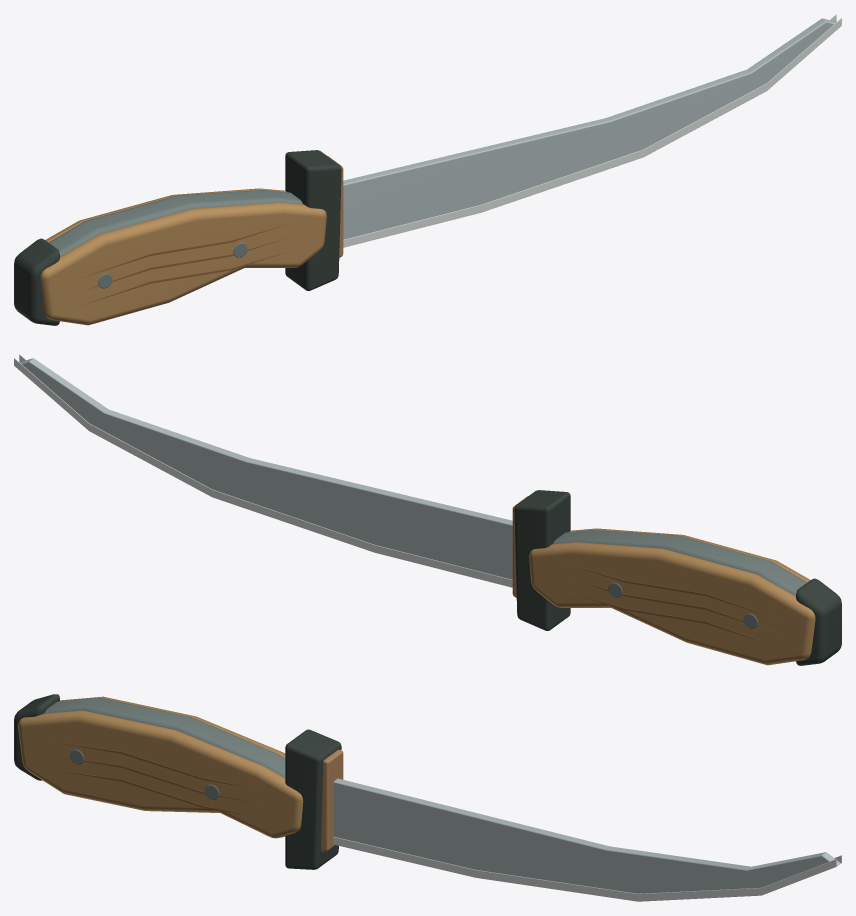
The model's file is fillet.glb.
3 views of the same model, one above another, from view 1: azimuth 30°, elevation 25°; view 2: azimuth 150°, elevation 25°; view 3: azimuth 330°, elevation 25° (orthographic).
Parts seen in each view (by area): view 1: Long narrow upswept Fillet blade, Sculpted honey-maple Fillet scale, Dark Fillet finger guard, Slim Fillet full tang, Double-sided thin Fillet hone, Quiet modeled Fillet maple grain; view 2: Long narrow upswept Fillet blade, Sculpted honey-maple Fillet scale, Dark Fillet finger guard, Slim Fillet full tang, Double-sided thin Fillet hone, Quiet modeled Fillet maple grain; view 3: Long narrow upswept Fillet blade, Sculpted honey-maple Fillet scale, Dark Fillet finger guard, Slim Fillet full tang, Double-sided thin Fillet hone, Small Fillet copper collar, Quiet modeled Fillet maple grain.
Part boxes in pixels (x1,y1,x2,y2): Long narrow upswept Fillet blade: [343, 18, 836, 239]; Sculpted honey-maple Fillet scale: [40, 188, 326, 325]; Dark Fillet finger guard: [14, 150, 341, 325]; Slim Fillet full tang: [49, 190, 302, 288]; Double-sided thin Fillet hone: [343, 14, 841, 247]; Quiet modeled Fillet maple grain: [78, 224, 288, 306]; Long narrow upswept Fillet blade: [19, 358, 512, 579]; Sculpted honey-maple Fillet scale: [529, 528, 815, 665]; Dark Fillet finger guard: [514, 490, 841, 665]; Slim Fillet full tang: [553, 530, 806, 628]; Double-sided thin Fillet hone: [14, 354, 512, 587]; Quiet modeled Fillet maple grain: [567, 564, 777, 646]; Long narrow upswept Fillet blade: [333, 778, 840, 893]; Sculpted honey-maple Fillet scale: [18, 696, 303, 838]; Dark Fillet finger guard: [14, 694, 341, 869]; Slim Fillet full tang: [44, 697, 285, 799]; Double-sided thin Fillet hone: [333, 836, 841, 901]; Small Fillet copper collar: [321, 749, 343, 851]; Quiet modeled Fillet maple grain: [50, 741, 259, 816].
Size of the model in its own units: 2.72 by 0.4323 by 0.166.
